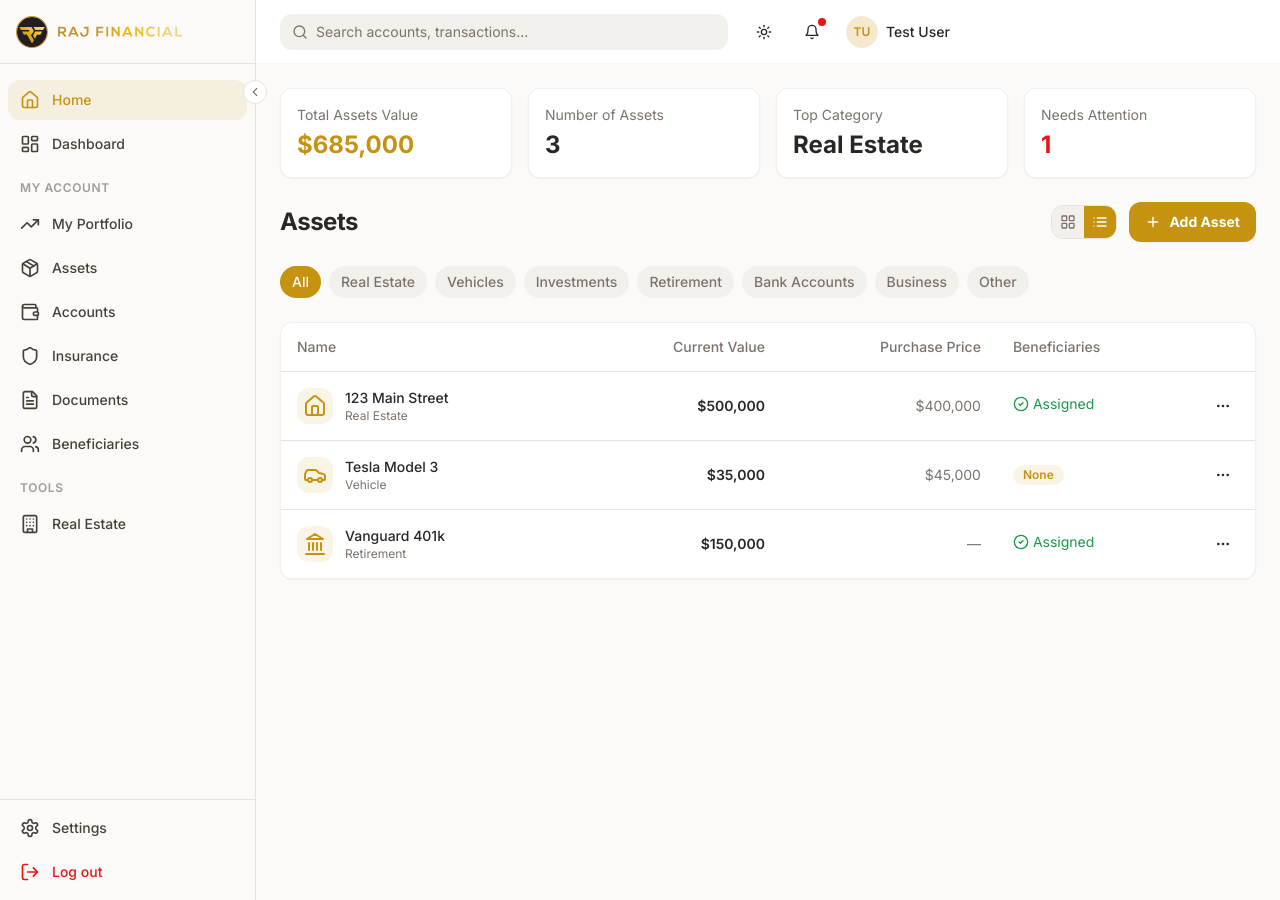
Assets Page — Delete Functionality › closes delete dialog when Cancel is clicked
What coordinates should you click on to do the following:
click the button named "More actions" in the row of "123 Main Street"
I would click on:
 (1223, 406)
Its box is x1=1207 y1=390 x2=1239 y2=422.
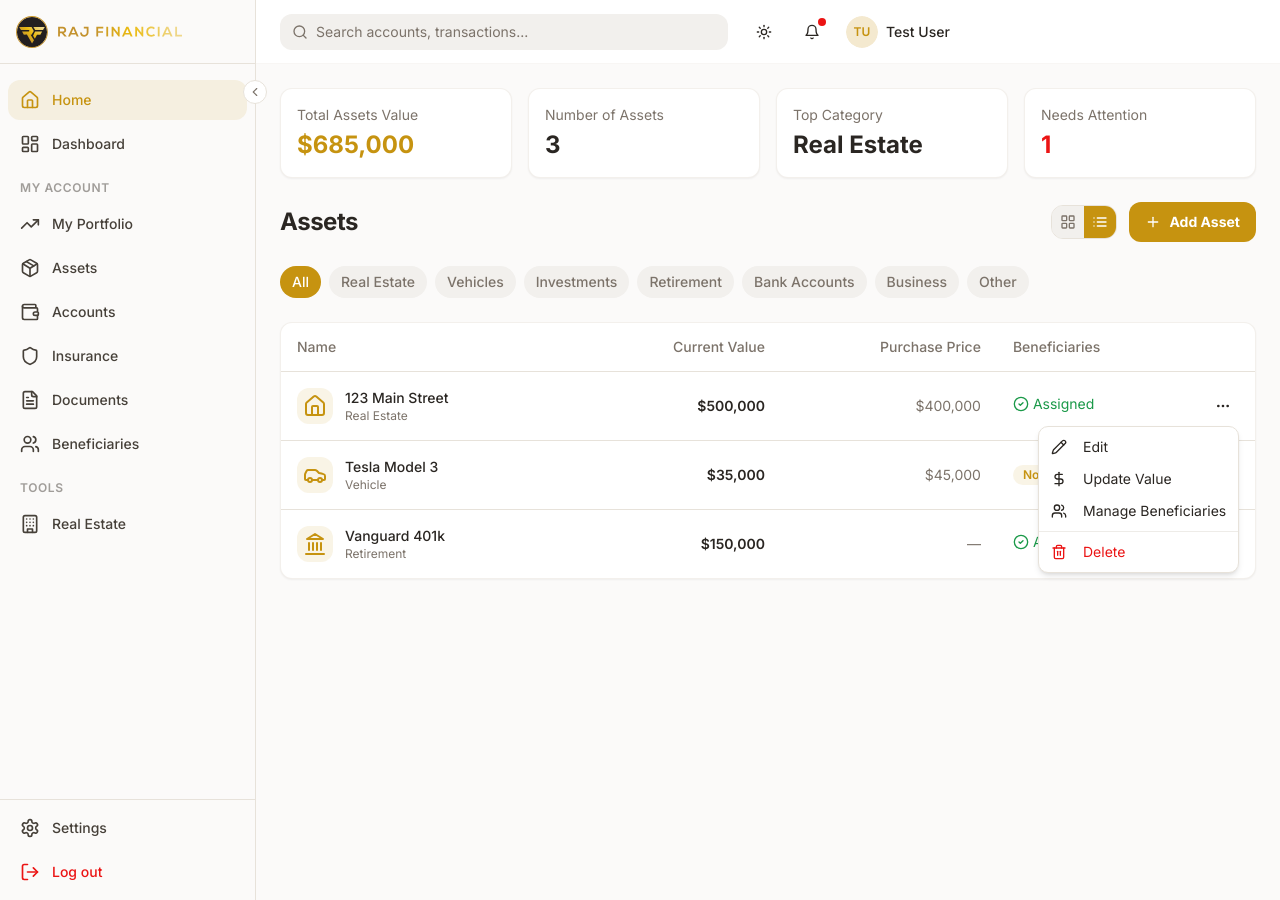
Now the menu item "Delete" is shown
What coordinates should you click on to do the following:
click the menu item "Delete"
I would click on:
 (1088, 552)
Its box is x1=1051 y1=543 x2=1125 y2=560.
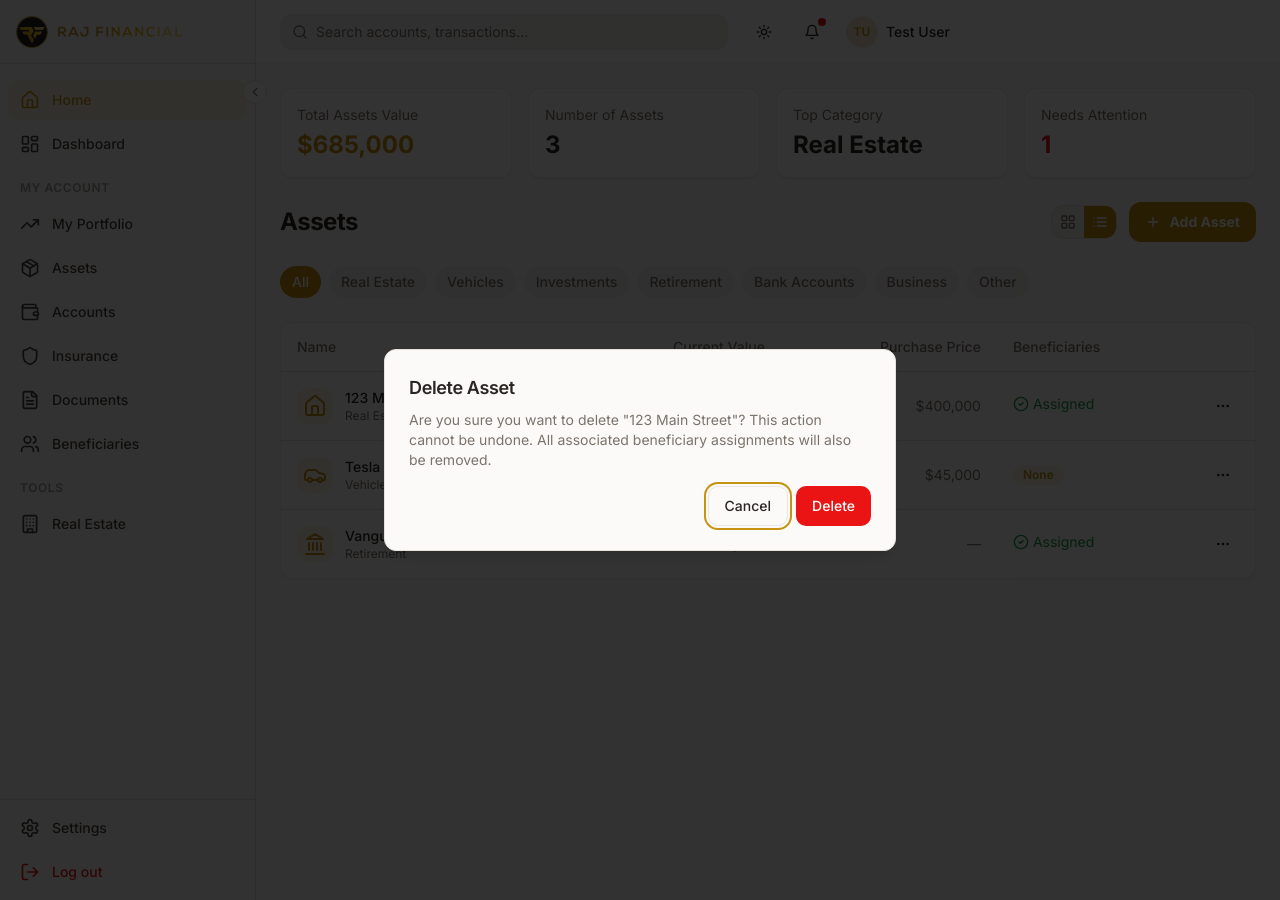
Now the dialog is shown, box x1=384 y1=349 x2=896 y2=551
What coordinates should you click on to do the following:
click the button "Cancel"
I would click on:
 (748, 506)
Its box is x1=708 y1=486 x2=788 y2=526.
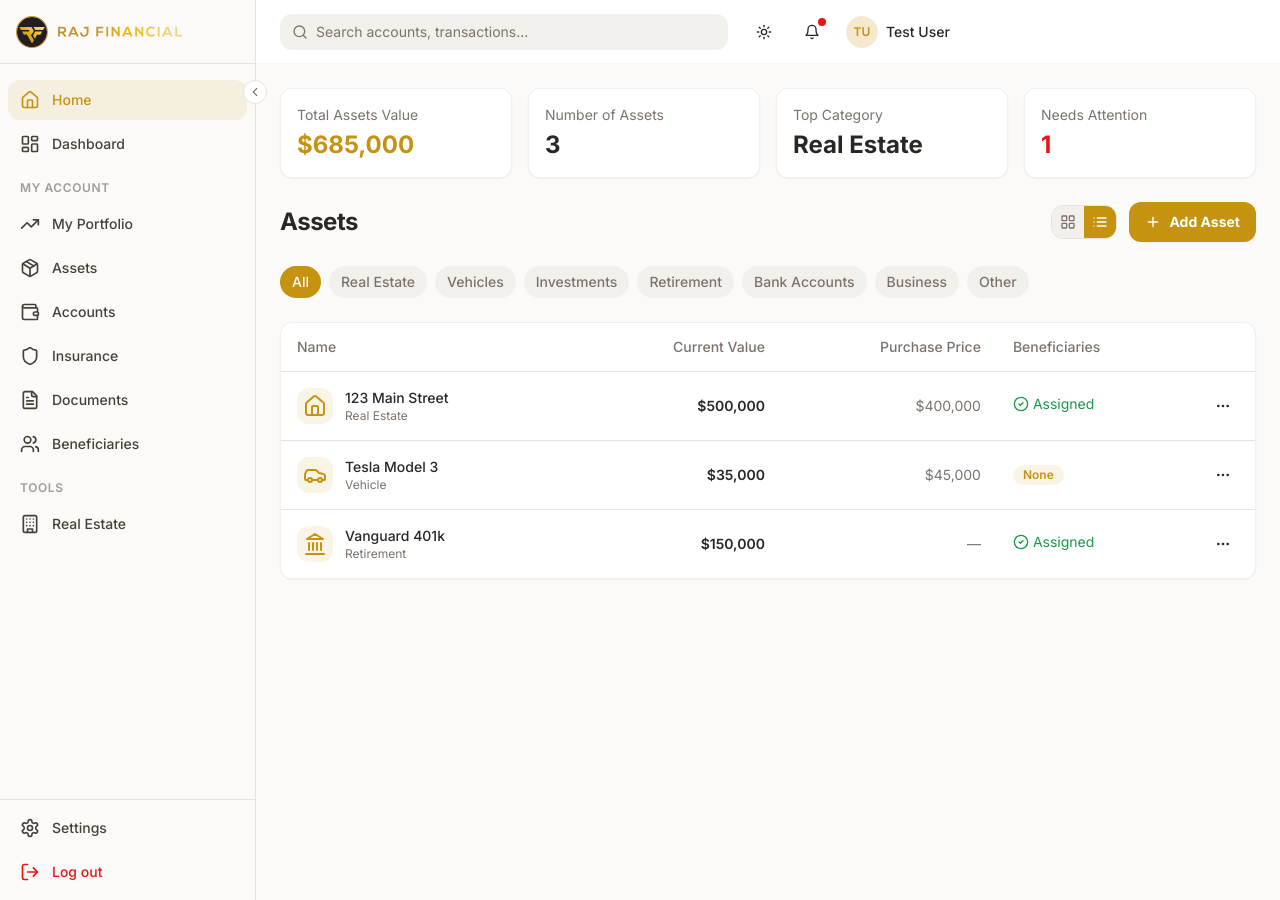
Now the dialog is gone
